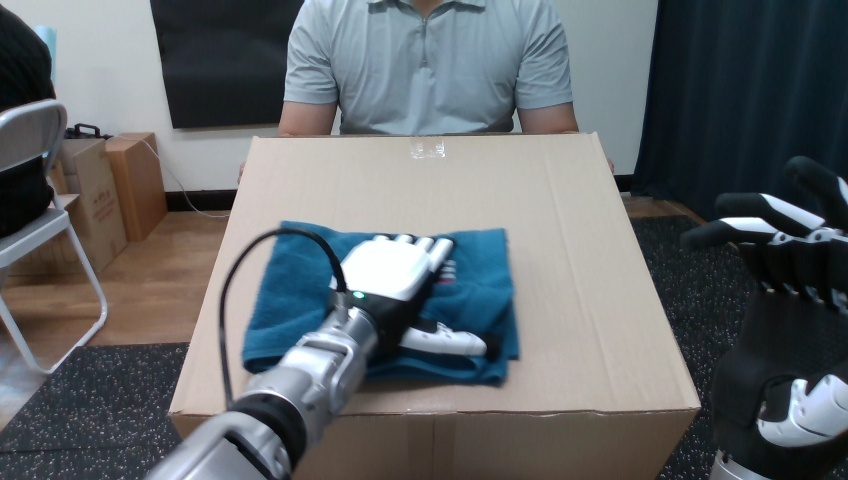left robot hand: (147, 228, 485, 479), (681, 156, 847, 314), (224, 232, 337, 401)
